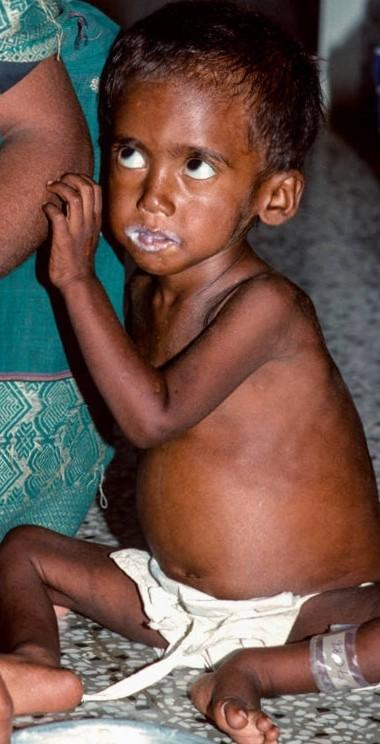Stunting: (66, 70, 314, 316)
